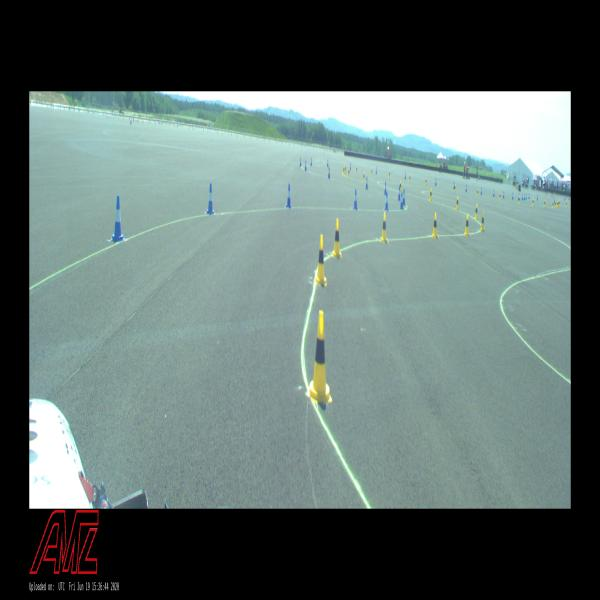blue_cone: (111, 196, 125, 240), (207, 183, 214, 214), (286, 184, 292, 207), (354, 189, 358, 209), (384, 192, 388, 210), (400, 193, 404, 210), (365, 177, 368, 189), (403, 189, 405, 206), (384, 181, 386, 195), (398, 186, 400, 200), (328, 167, 330, 178), (310, 157, 312, 166), (327, 159, 329, 167), (435, 178, 437, 186), (465, 184, 467, 192), (480, 187, 482, 195), (493, 189, 495, 197), (375, 167, 377, 174), (528, 193, 530, 200), (523, 194, 525, 200), (525, 194, 527, 200), (536, 194, 538, 200), (305, 160, 306, 170), (300, 157, 301, 167), (405, 172, 406, 180), (503, 191, 504, 199), (512, 192, 513, 200), (454, 182, 455, 189), (518, 193, 519, 200), (554, 198, 555, 202), (522, 194, 522, 200)
yellow_cone: (309, 310, 332, 402), (315, 235, 327, 286), (332, 218, 341, 258), (380, 212, 388, 242), (464, 213, 470, 236), (432, 212, 437, 238), (480, 212, 484, 231), (474, 203, 478, 220), (429, 188, 432, 201), (456, 196, 458, 210), (348, 168, 350, 178), (345, 164, 347, 174), (477, 188, 479, 197), (499, 192, 501, 201), (343, 166, 345, 174), (371, 168, 373, 176), (409, 174, 411, 182), (425, 178, 427, 186), (518, 196, 520, 204), (532, 198, 534, 206), (544, 199, 546, 207), (552, 201, 554, 208), (400, 180, 401, 192), (556, 201, 558, 207), (565, 201, 567, 207), (363, 172, 364, 182), (356, 166, 357, 174), (389, 171, 390, 179), (454, 184, 455, 192), (350, 163, 351, 170), (555, 201, 556, 208), (558, 200, 559, 207), (559, 200, 560, 206)
